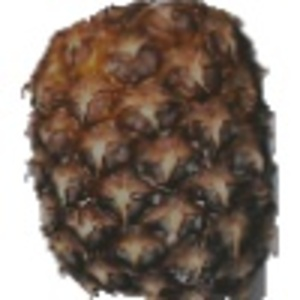abacaxi: (17, 3, 280, 295)
